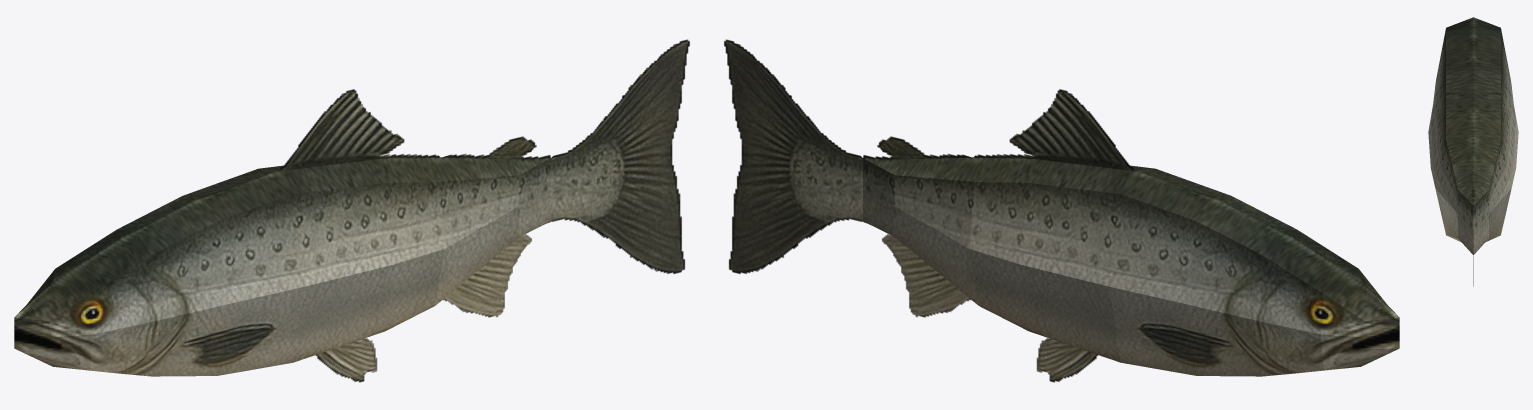
File: Salmon.glb
The picture shows the model from 3 angles, left to right: view 1: azimuth 30°, elevation 25°; view 2: azimuth 150°, elevation 25°; view 3: azimuth 270°, elevation 25°; orthographic projection. The views are drawn at different scales.
Parts seen in each view (by area): view 1: Salmon; view 2: Salmon; view 3: Salmon.
Boxes of the visible parts, x1,y1,x2,y2 form: Salmon: [14, 39, 689, 382]; Salmon: [724, 39, 1399, 382]; Salmon: [1428, 17, 1518, 286].
Bounding box in the file's own units: 1.23 × 0.5951 × 0.1809.
1 material, 1 textured.
